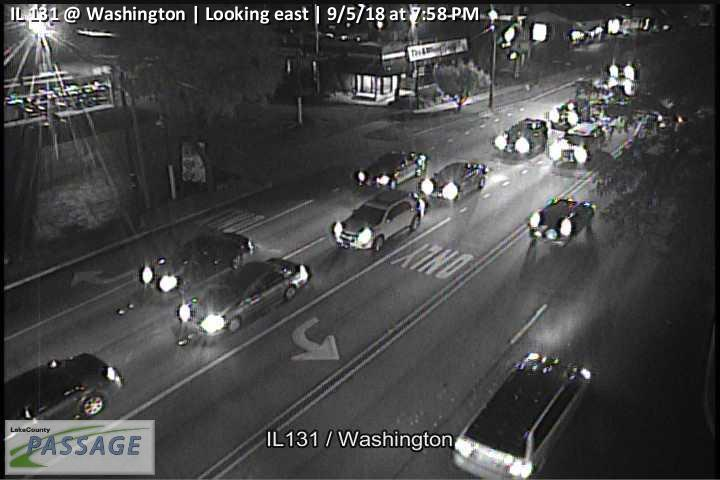SUV: (449, 349, 597, 480)
Sedan: (175, 256, 309, 332), (136, 232, 254, 295), (329, 191, 426, 254), (527, 197, 596, 244), (353, 151, 427, 191), (420, 160, 487, 199), (493, 117, 550, 157)
